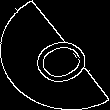O_NE: (16, 23, 94, 87)
